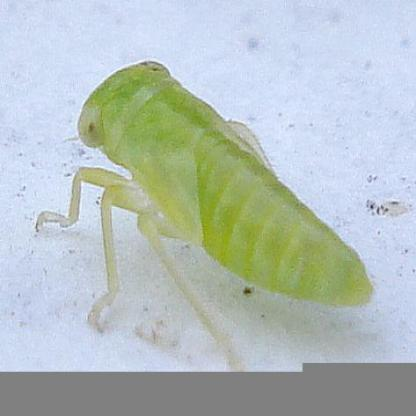green-leafhopper: (36, 58, 376, 374)
